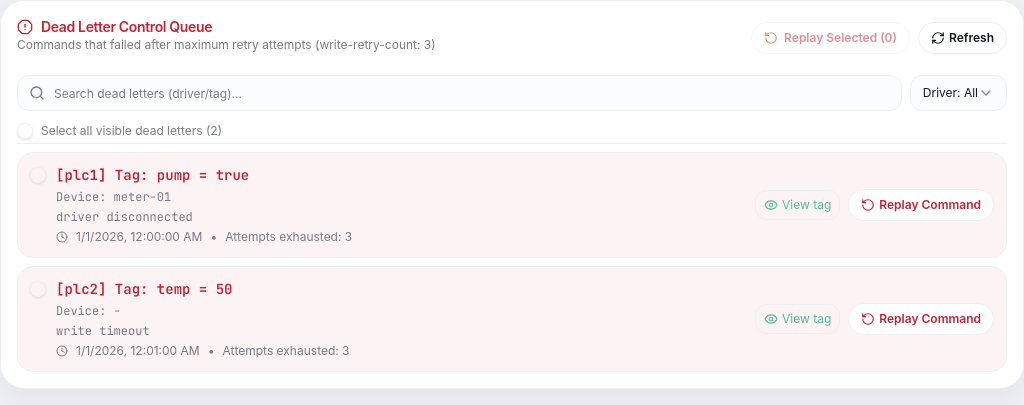
Test: DeadLetterReplayList — search & driver filter › a search with no hits shows the no-matching state instead of rows
In the field with placeholder "Search dead letters (driver/tag)…": [459, 93] box [17,75,902,111], type "no-such-tag"
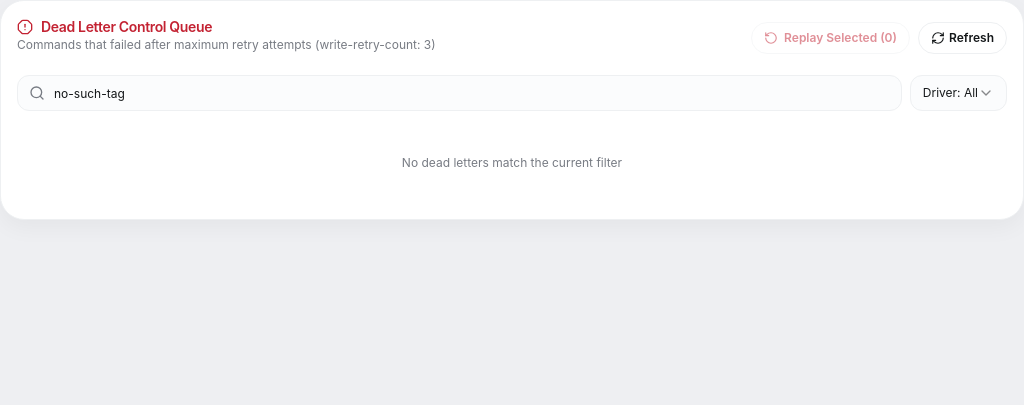
Expected: the text "No dead letters match the current filter" is shown, [402,155,622,170]
Expected: the text "[plc1] Tag: pump = true" is gone
